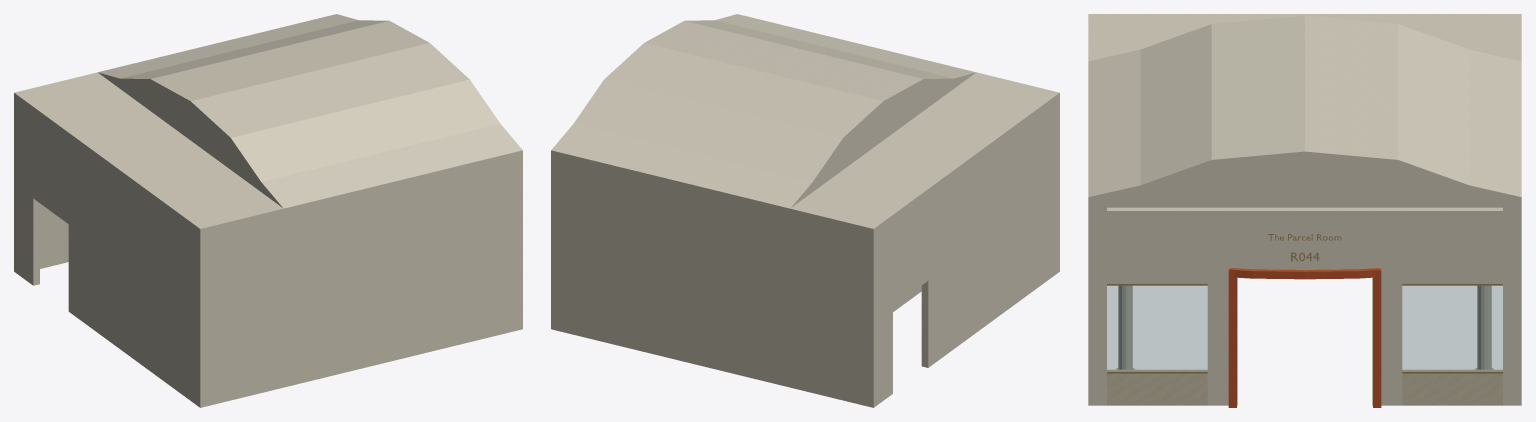
Rendered from SHOP_D09_P100_A210__shell.glb.
3 renders of one model, left to right at view 1: azimuth 30°, elevation 25°; view 2: azimuth 150°, elevation 25°; view 3: azimuth 270°, elevation 25°, orthographic. The views are drawn at different scales.
Visible parts, largest first — view 1: SHOP_D09_P100_A210__shell__ivory_enamel; view 2: SHOP_D09_P100_A210__shell__ivory_enamel; view 3: SHOP_D09_P100_A210__shell__ivory_enamel, SHOP_D09_P100_A210__shell__shop_glass, SHOP_D09_P100_A210__shell__warm_stone, SHOP_D09_P100_A210__shell__retail_terracotta_enamel, SHOP_D09_P100_A210__shell__champagne_metal.
Boxes of the visible parts, left/top/right/bottom form: SHOP_D09_P100_A210__shell__ivory_enamel: left=14, top=14, right=522, bottom=407; SHOP_D09_P100_A210__shell__ivory_enamel: left=551, top=14, right=1059, bottom=407; SHOP_D09_P100_A210__shell__ivory_enamel: left=1088, top=14, right=1521, bottom=405; SHOP_D09_P100_A210__shell__shop_glass: left=1107, top=286, right=1502, bottom=370; SHOP_D09_P100_A210__shell__warm_stone: left=1107, top=368, right=1502, bottom=405; SHOP_D09_P100_A210__shell__retail_terracotta_enamel: left=1228, top=268, right=1381, bottom=407; SHOP_D09_P100_A210__shell__champagne_metal: left=1107, top=234, right=1502, bottom=373.
Bounding box in the file's own units: 11.86 × 7.5 × 11.6.
Materials: 6 (4 with a texture image).
